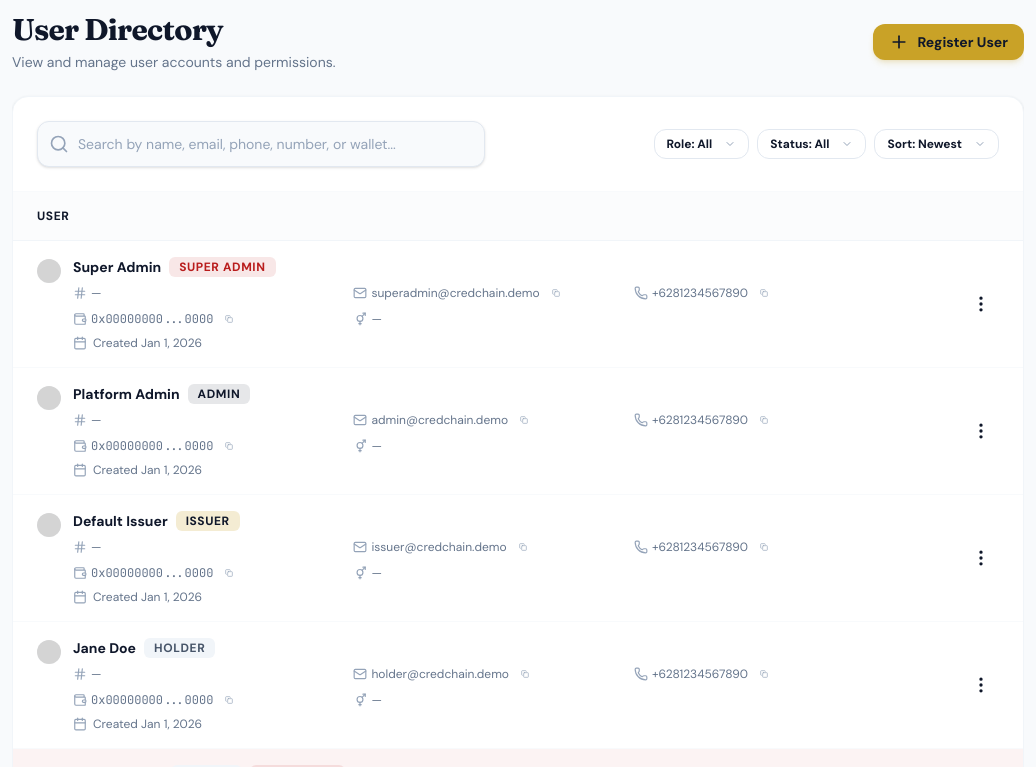
it: UserList › hides transfer super admin option when auth is admin (not super admin)
Expected: the link "Default Issuer" is shown, x1=73 y1=511 x2=168 y2=531
Click the button named "actions" in the row of "issuer@credchain.demo": (981, 558) x1=963 y1=540 x2=999 y2=576
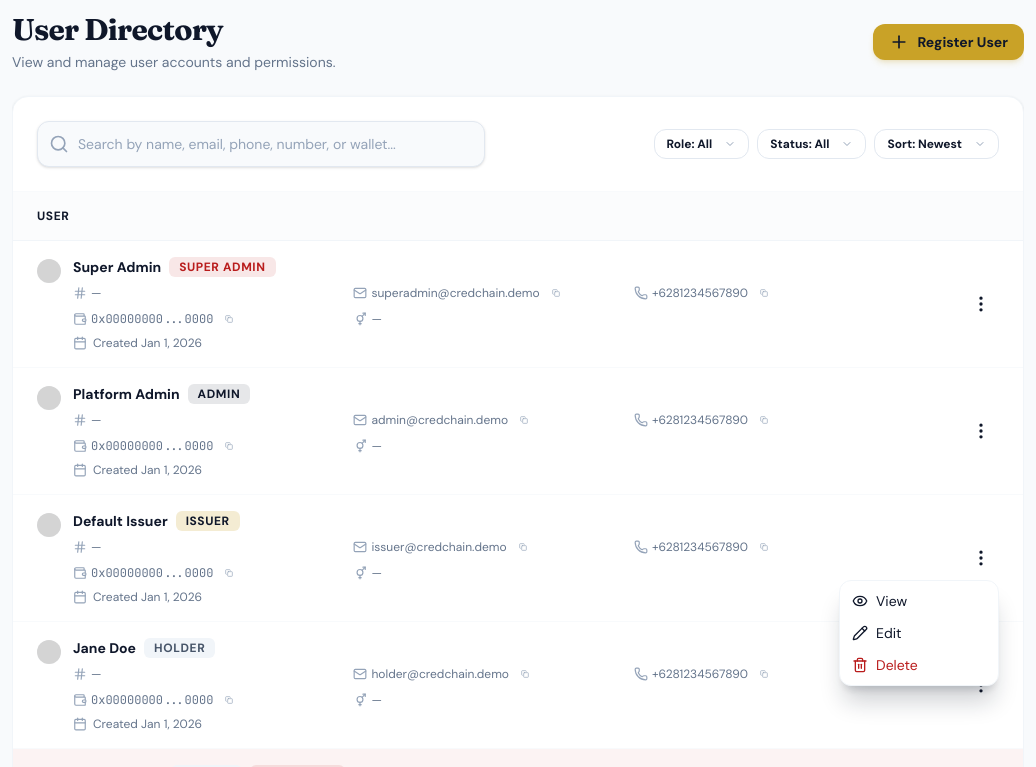
Expected: the menu item "Edit" is shown, x1=852 y1=624 x2=902 y2=642
